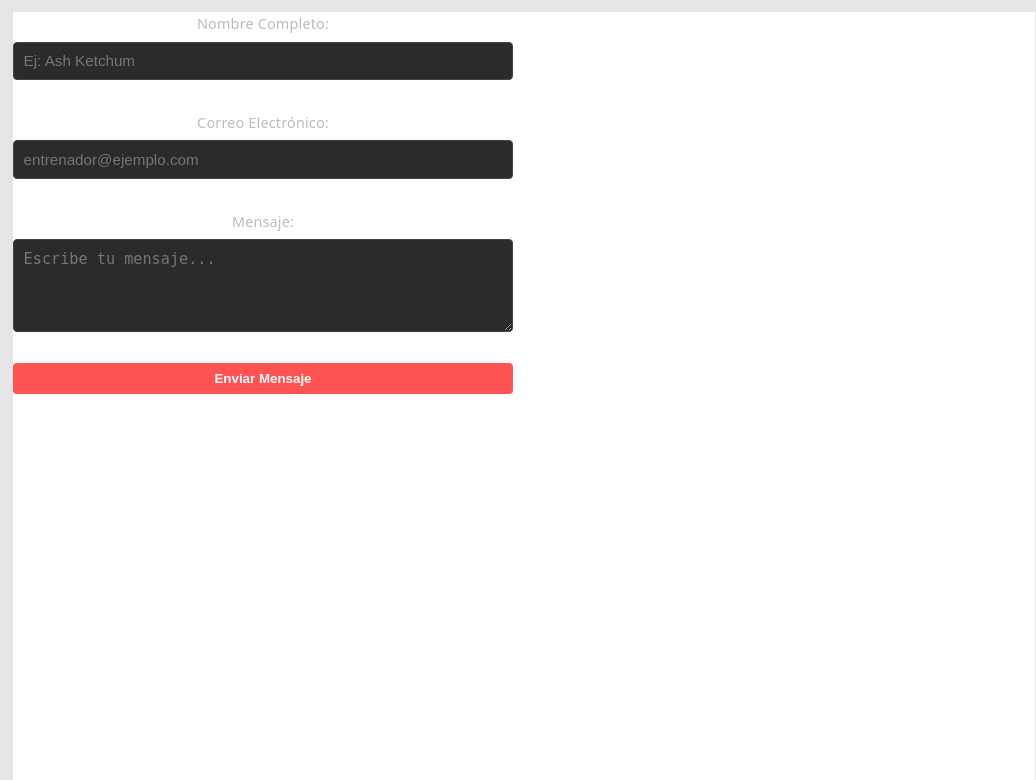
Test: Suite de 10 Pruebas Unitarias - Evaluación Parcial 2 (Centro Pokémon) › 3. [Renderizado Condicional] Muestra el mensaje de error en FormularioContacto solo cuando hay un error presente
Si enviamos el formulario vacío, aparece el error condicional
Click the button "Enviar Mensaje": x=263, y=379 [13, 363, 513, 394]
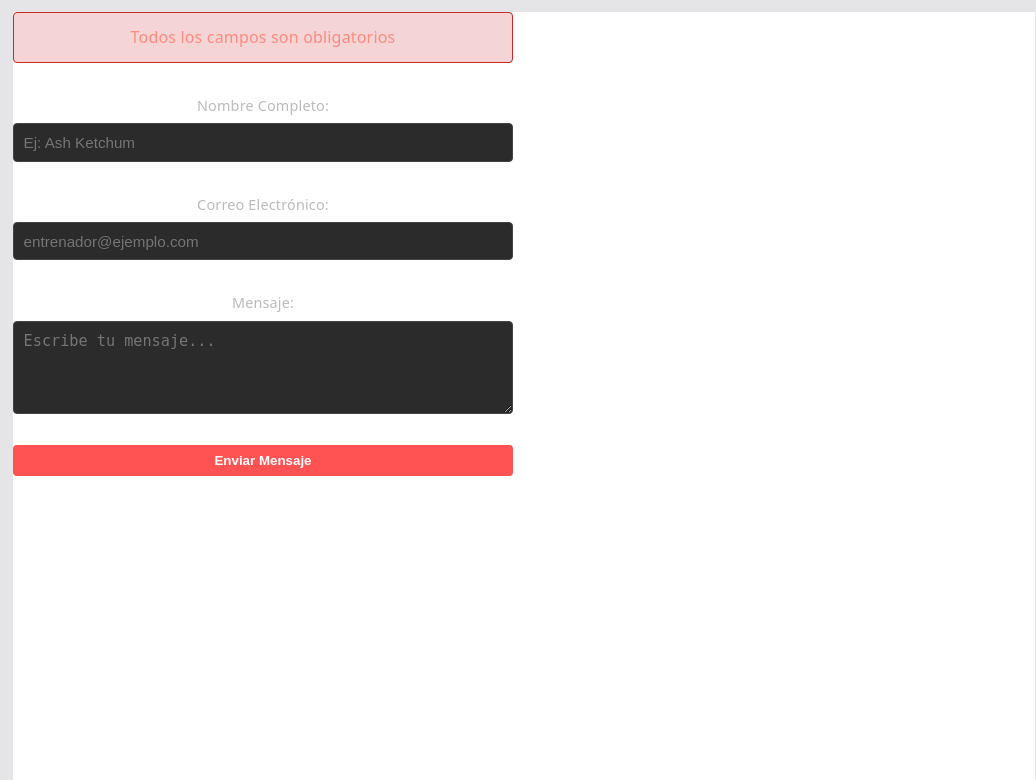
Now the message reads "Todos los campos son obligatorios", box [131, 26, 396, 48]
